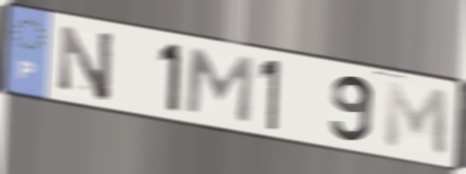1: (156, 41, 183, 115), (257, 57, 282, 133)
9: (329, 73, 374, 143)
M: (182, 45, 256, 127), (382, 78, 451, 161)
N: (58, 22, 117, 105)
